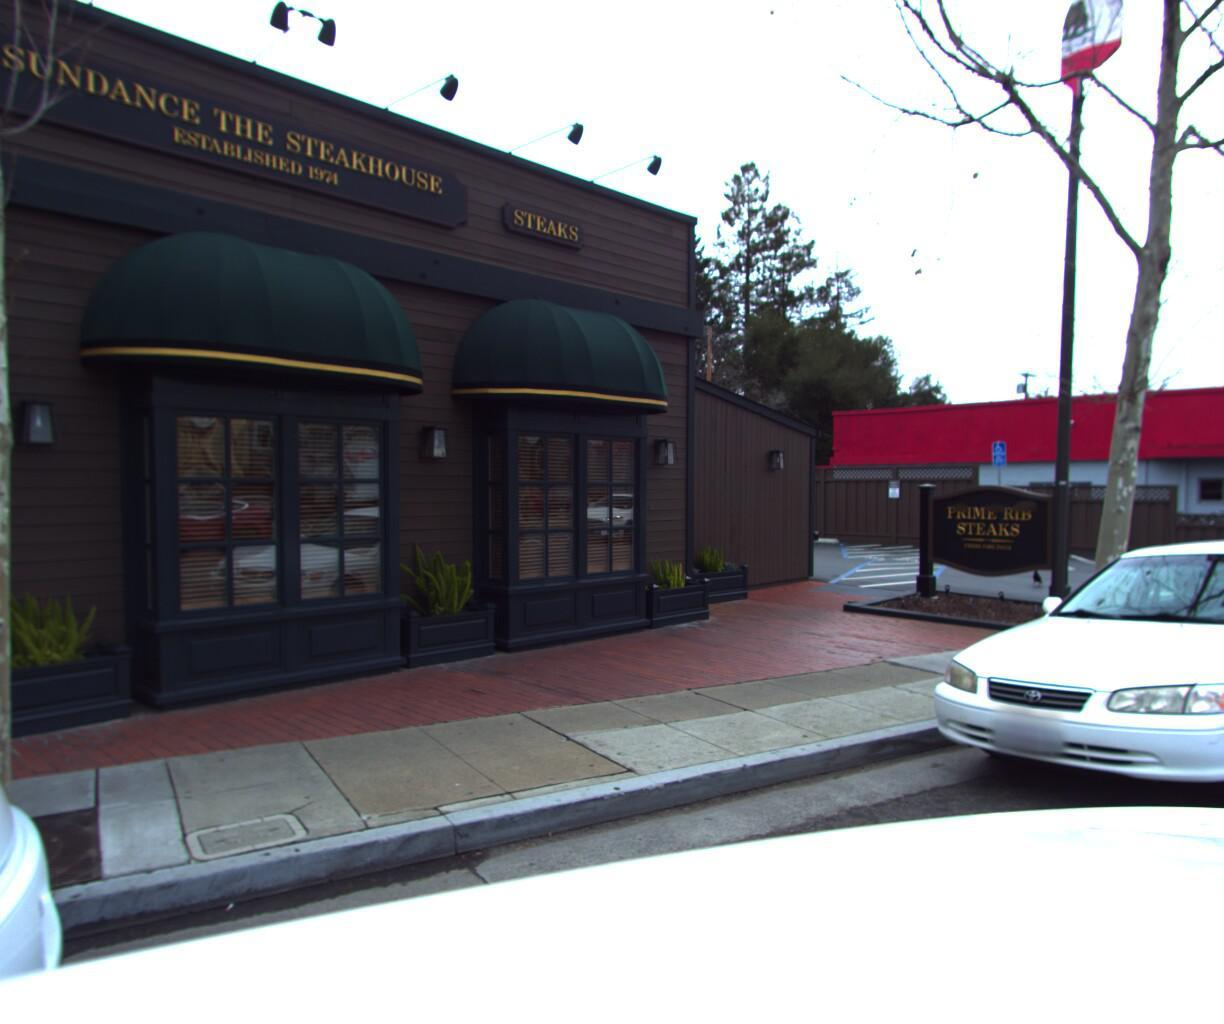car: (902, 516, 1224, 892)
